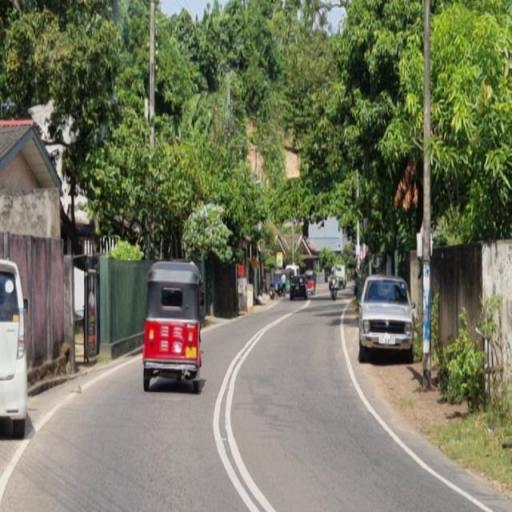double_white_line: (212, 310, 275, 511)
